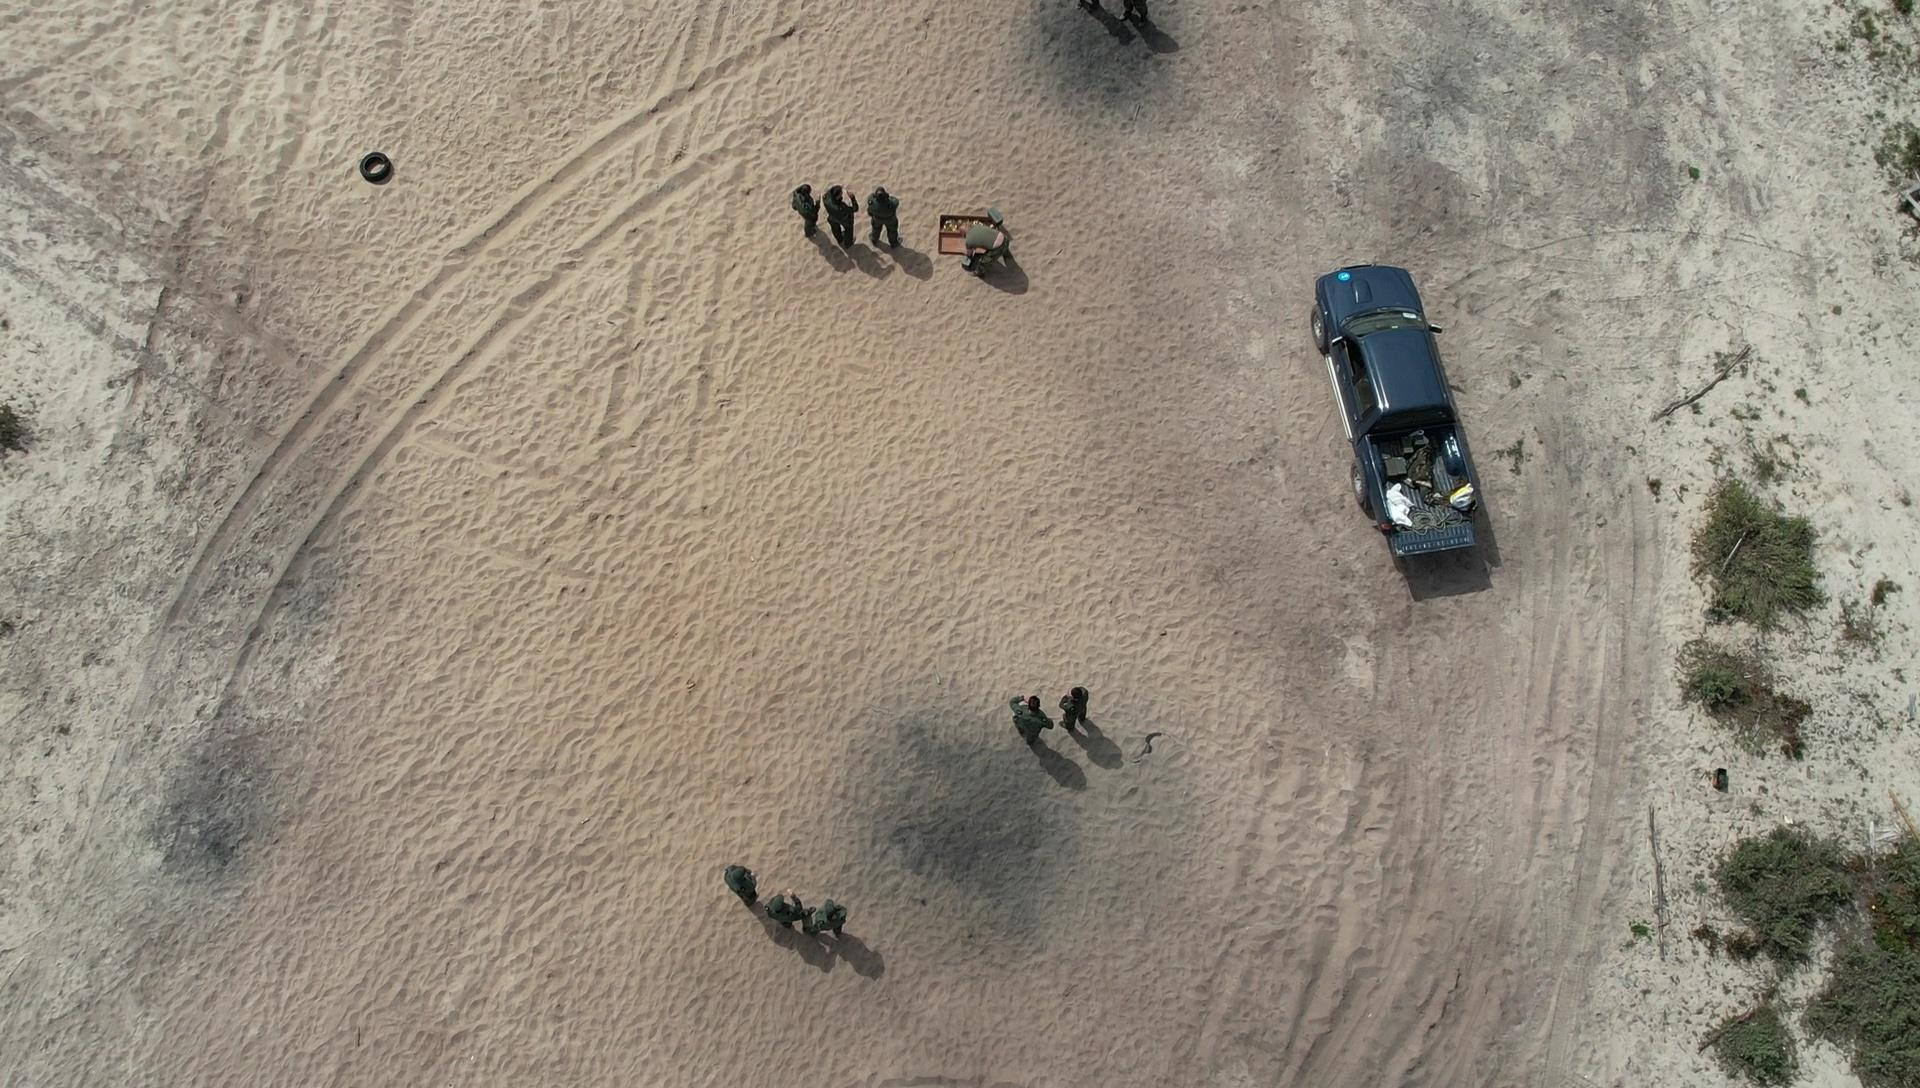Soldier: (938, 15, 992, 92), (864, 189, 909, 270), (770, 892, 827, 955), (822, 185, 865, 266), (719, 855, 765, 924), (1054, 678, 1098, 749), (806, 185, 851, 255), (1011, 692, 1054, 754), (804, 894, 847, 953), (1102, 0, 1143, 36), (1058, 0, 1114, 20)
